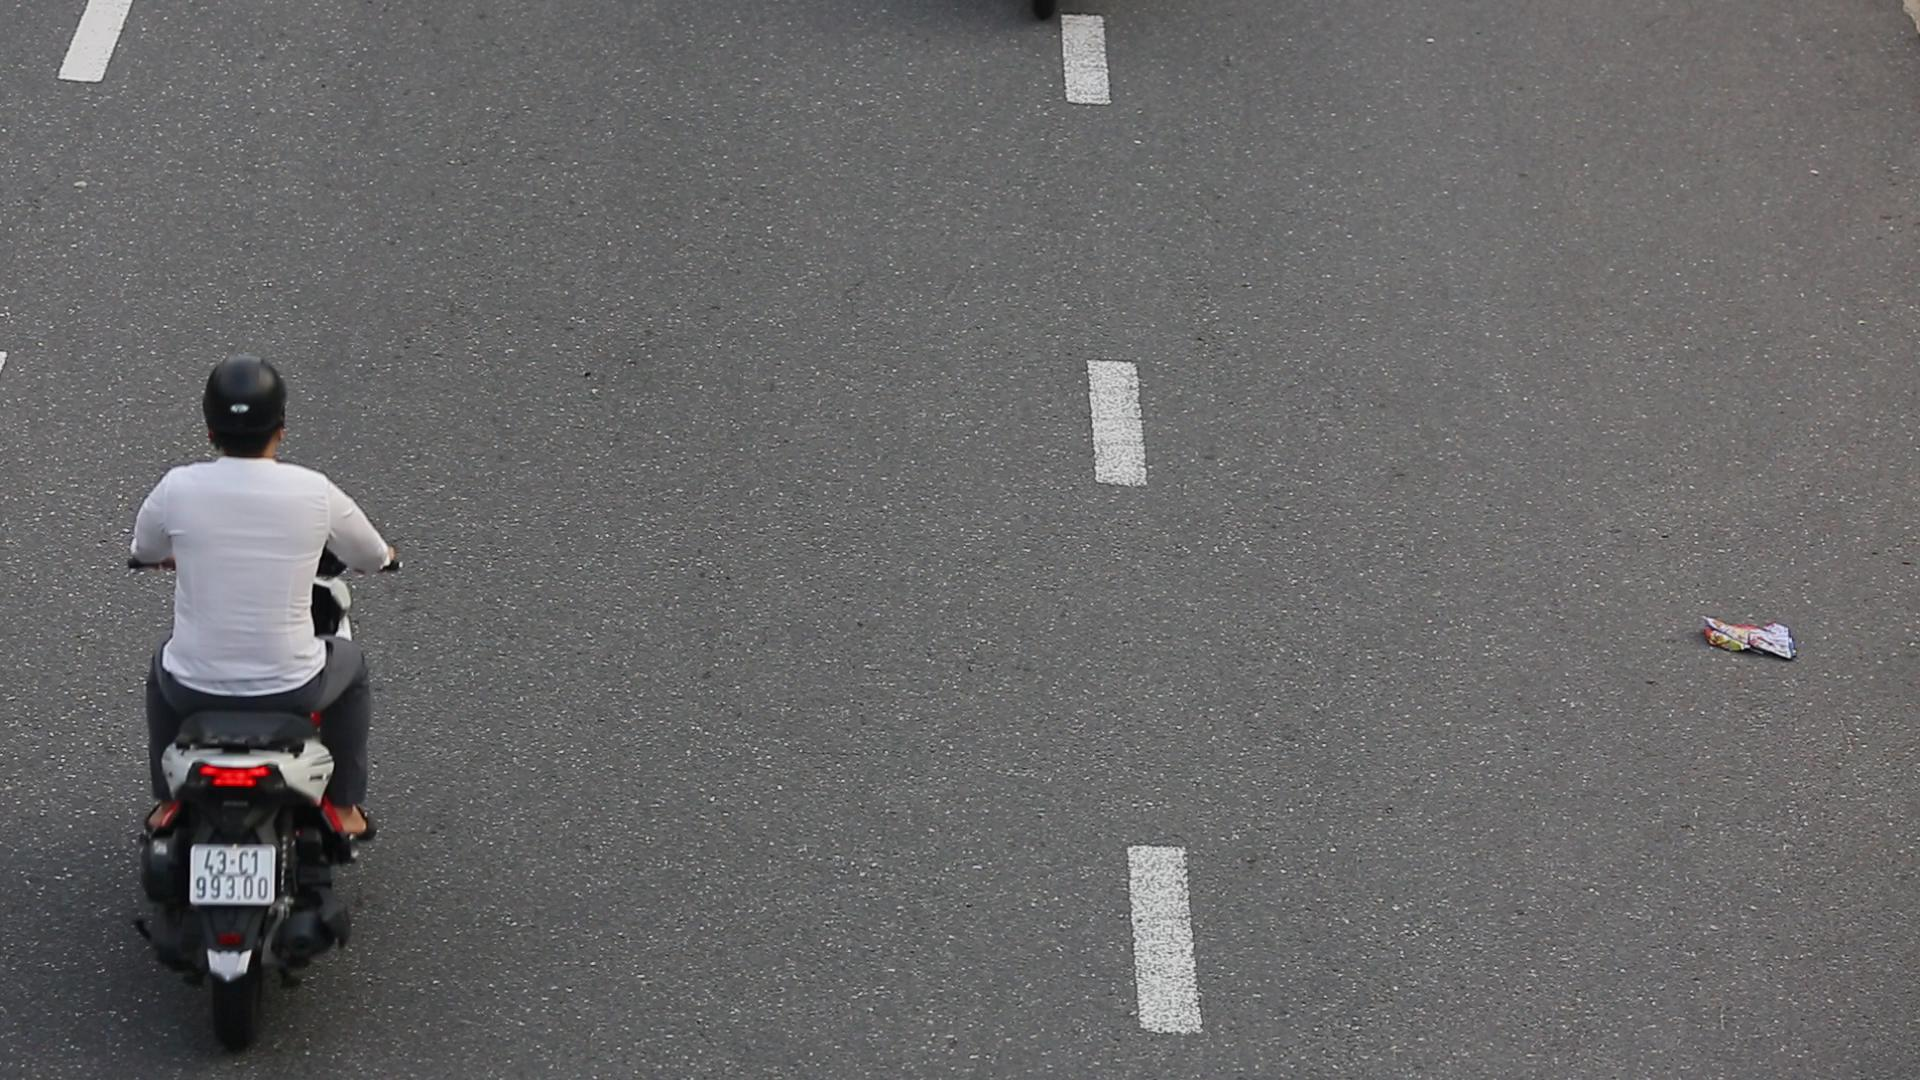motobike: (108, 344, 410, 1069)
